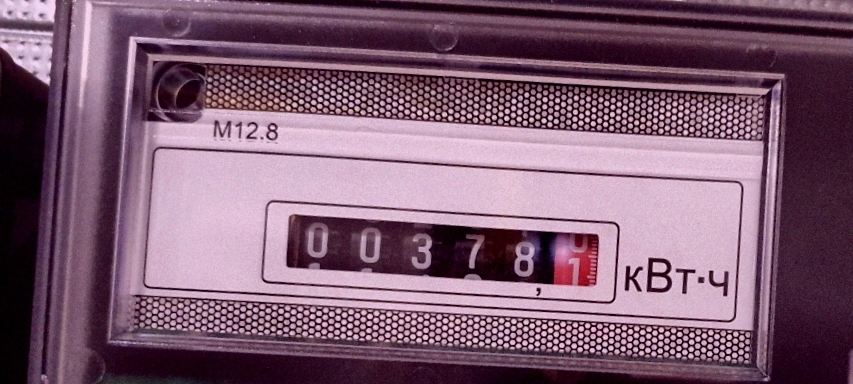0: (303, 217, 334, 260), (356, 223, 384, 264), (566, 230, 590, 254)
1: (562, 253, 585, 286)
3: (406, 229, 436, 272)
7: (459, 230, 487, 271)
8: (510, 237, 538, 279)
screen: (263, 182, 622, 310)
